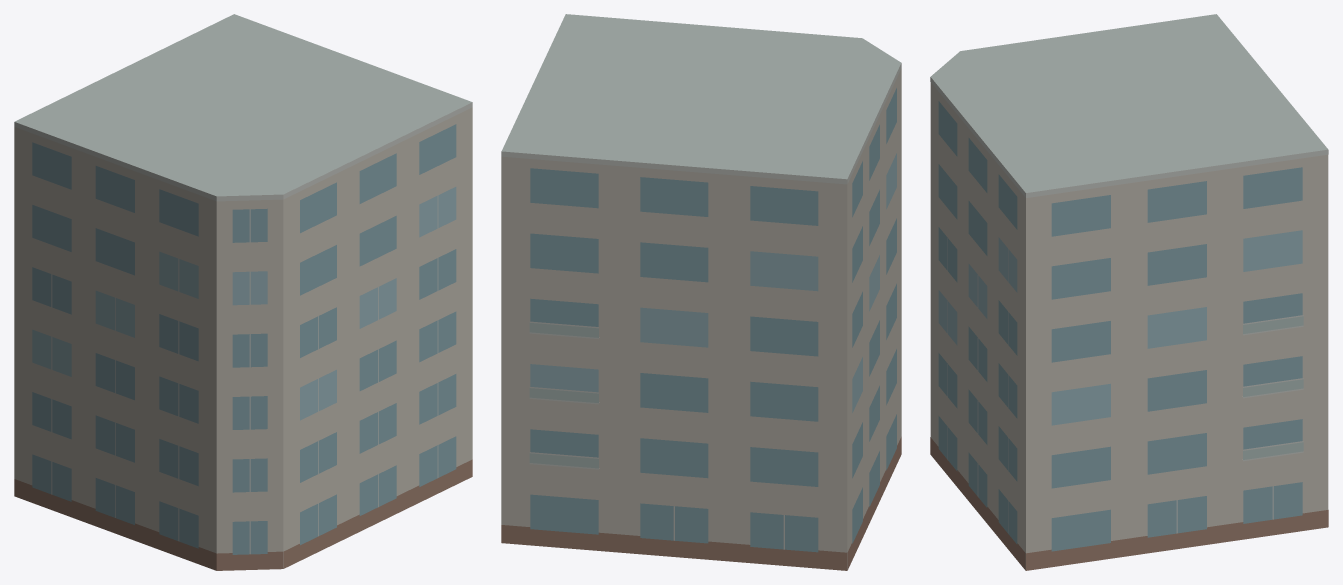
The model's file is survey-upis-32748971.glb.
3 views of the same model, side by side, from view 1: azimuth 30°, elevation 25°; view 2: azimuth 150°, elevation 25°; view 3: azimuth 270°, elevation 25° (orthographic). The views are drawn at different scales.
Visible parts, largest first — view 1: survey-upis-32748971.tmp; view 2: survey-upis-32748971.tmp; view 3: survey-upis-32748971.tmp.
Boxes of the visible parts, left/top/right/bottom form: survey-upis-32748971.tmp: left=14, top=14, right=472, bottom=570; survey-upis-32748971.tmp: left=501, top=14, right=901, bottom=570; survey-upis-32748971.tmp: left=930, top=14, right=1328, bottom=570.
Size of the model in its own units: 18.62 by 18.3 by 17.48.
